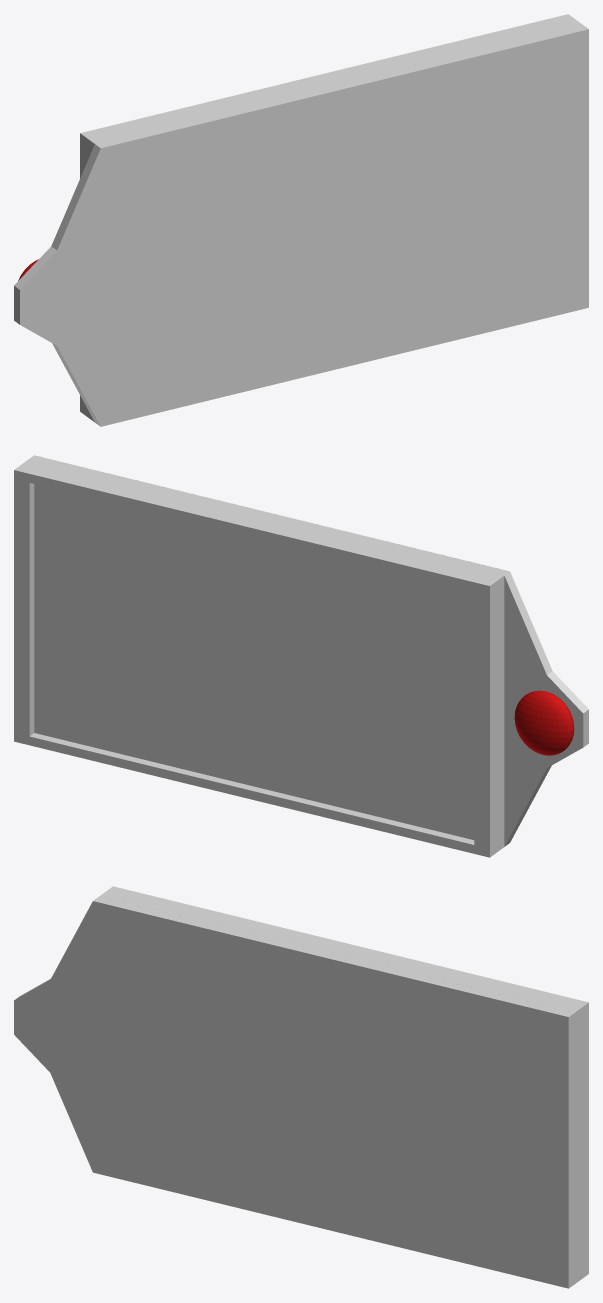
The model's file is Cardreader_Door.fbx.
3 renders of one model, top to bottom at view 1: azimuth 30°, elevation 25°; view 2: azimuth 150°, elevation 25°; view 3: azimuth 330°, elevation 25°, orthographic. The views are drawn at different scales.
Visible parts, largest first — view 1: Cardreader_Door_base; view 2: Cardreader_Door_base, Cardreader_Door_Light; view 3: Cardreader_Door_base.
Part boxes in pixels (x1,y1,x2,y2): Cardreader_Door_base: [14, 14, 588, 426]; Cardreader_Door_base: [14, 455, 588, 857]; Cardreader_Door_Light: [514, 690, 574, 755]; Cardreader_Door_base: [14, 886, 588, 1288].
Size of the model in its own units: 233 by 109 by 14.69.
